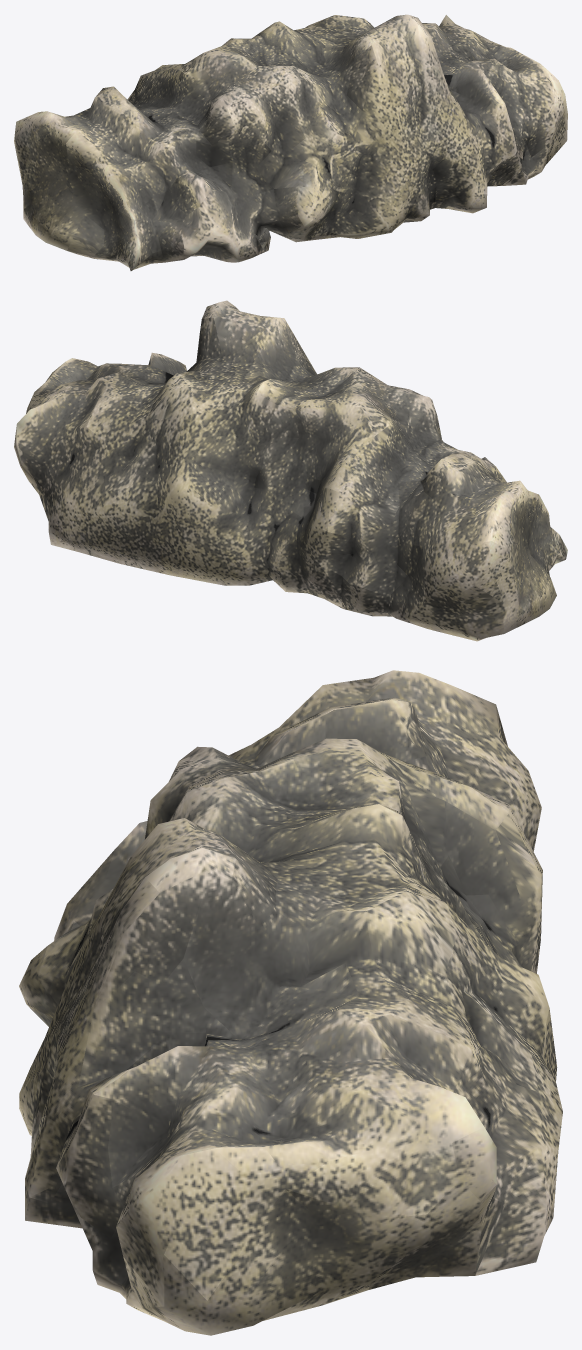
The model's file is rock3_LOD1.fbx.
The picture shows the model from 3 angles, top to bottom: view 1: azimuth 30°, elevation 25°; view 2: azimuth 150°, elevation 25°; view 3: azimuth 270°, elevation 25°; orthographic projection. The views are drawn at different scales.
Parts seen in each view (by area): view 1: rock3; view 2: rock3; view 3: rock3.
Part boxes in pixels (<box>): rock3: <box>14,14,567,270</box>; rock3: <box>14,300,567,641</box>; rock3: <box>19,670,562,1335</box>.
Size of the model in its own units: 29.84 by 14.47 by 10.86.
